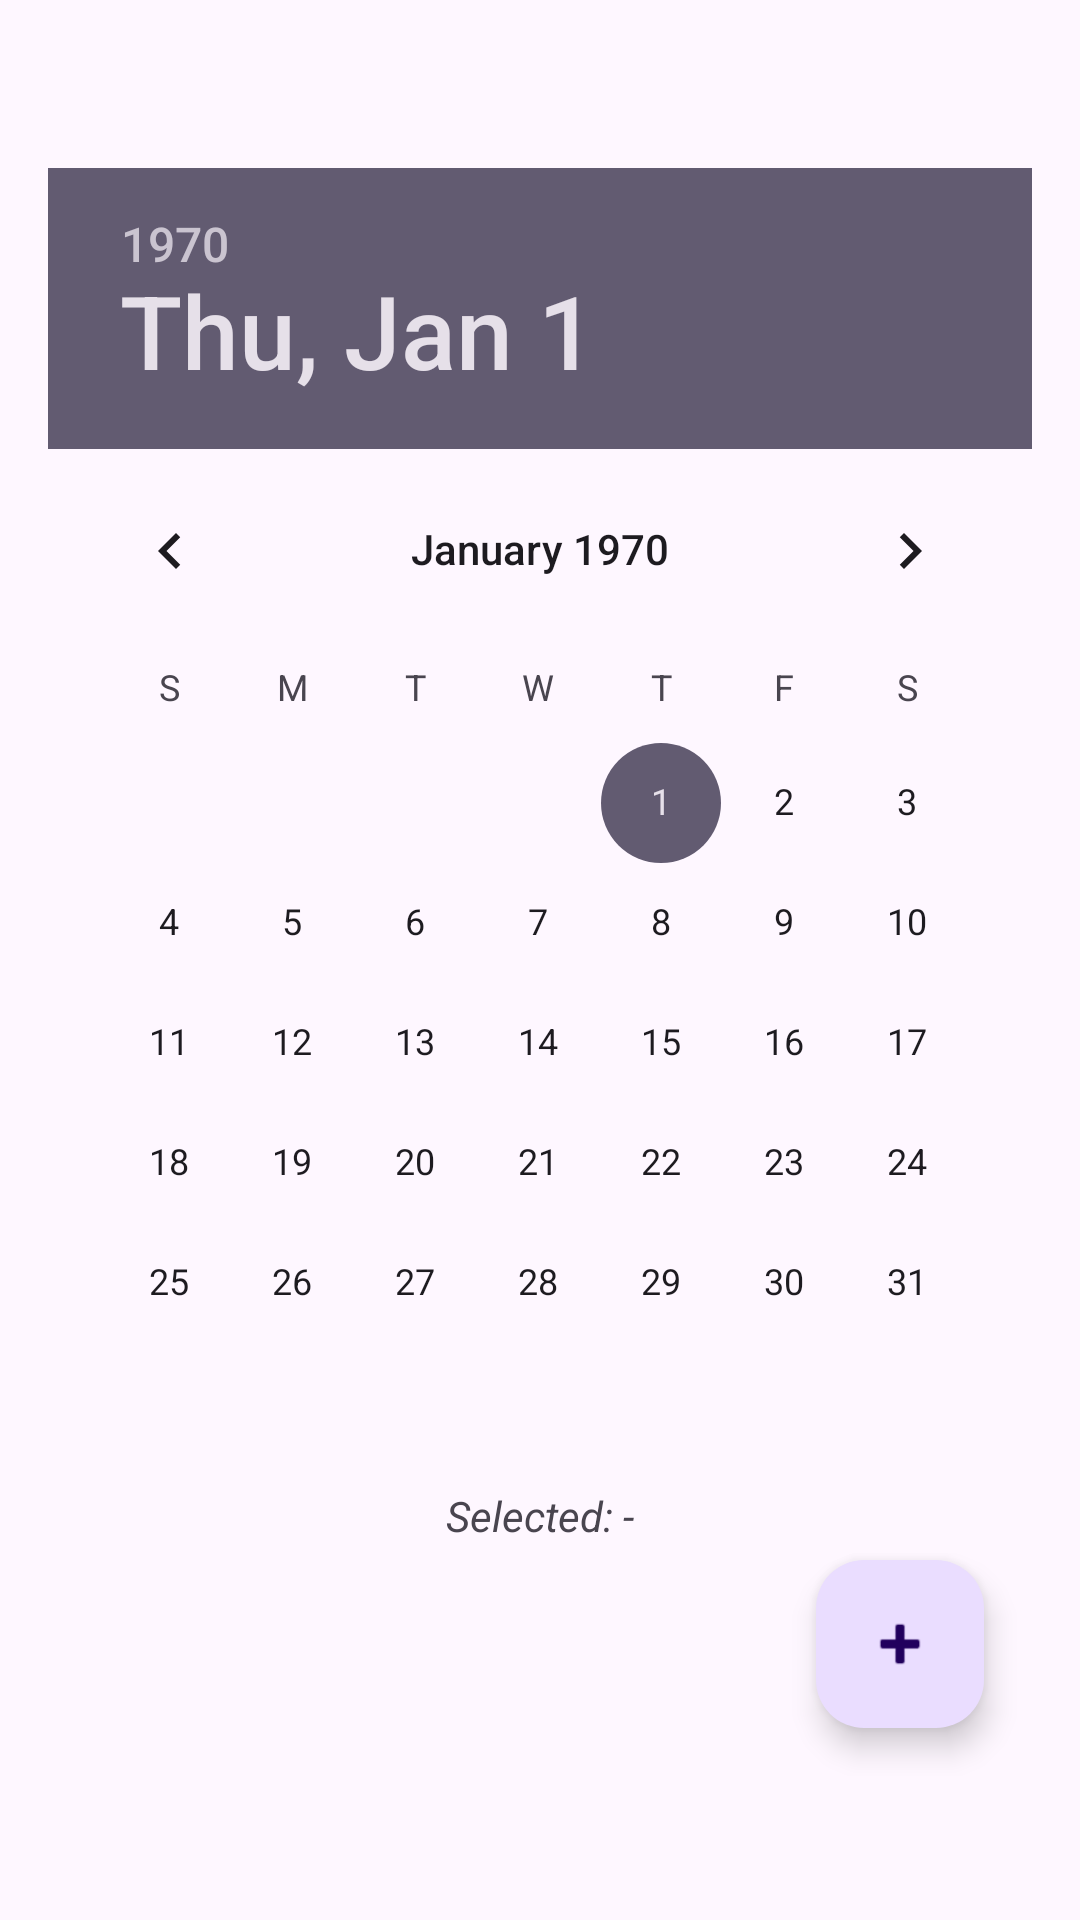

Point at icon controls on the screen. Image size 1080px x 1920px, points as (x=x, y=y).
Add new food report: (x=900, y=1644)
